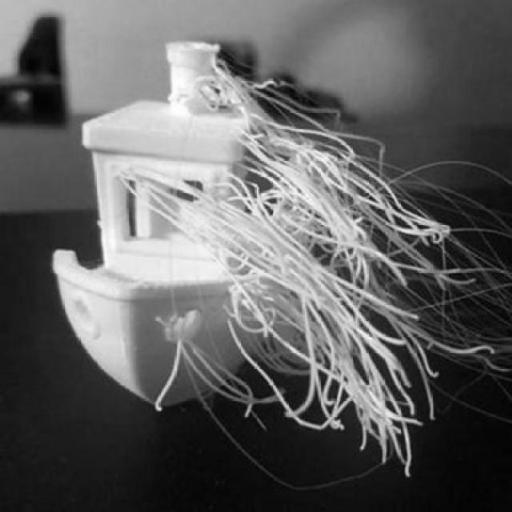spaghetti_and_stringing: (117, 55, 511, 489)
